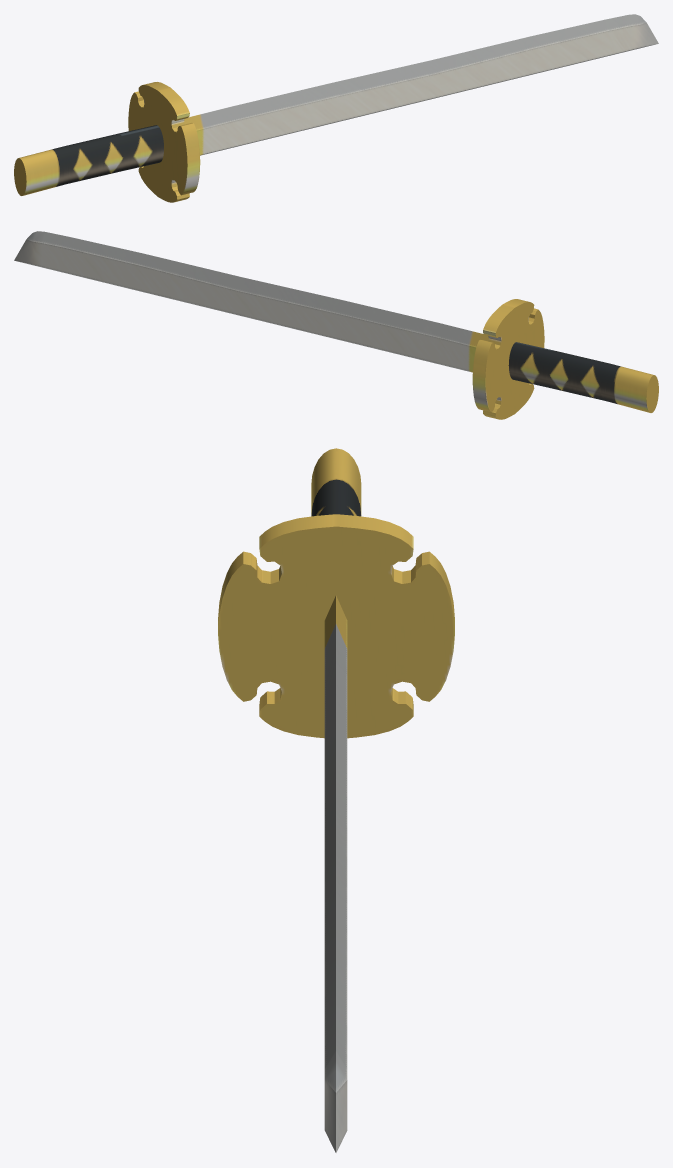
Rendered from 57_Pin_Sword.fbx.
3 views of the same model, one above another, from view 1: azimuth 30°, elevation 25°; view 2: azimuth 150°, elevation 25°; view 3: azimuth 270°, elevation 25° (orthographic). The views are drawn at different scales.
Parts seen in each view (by area): view 1: Pin_Sword_body, Pin_Sword_head, Pin_Sword_tail; view 2: Pin_Sword_body, Pin_Sword_head, Pin_Sword_tail; view 3: Pin_Sword_head, Pin_Sword_body, Pin_Sword_tail.
Part boxes in pixels (x1,y1,x2,y2): Pin_Sword_body: [184, 15, 630, 155]; Pin_Sword_head: [14, 82, 200, 202]; Pin_Sword_tail: [628, 14, 658, 50]; Pin_Sword_body: [42, 232, 488, 372]; Pin_Sword_head: [472, 299, 658, 419]; Pin_Sword_tail: [14, 231, 44, 267]; Pin_Sword_head: [218, 448, 454, 738]; Pin_Sword_body: [324, 595, 347, 1068]; Pin_Sword_tail: [324, 1051, 347, 1152].
Size of the model in its own units: 4.17 by 0.663 by 0.6702.
